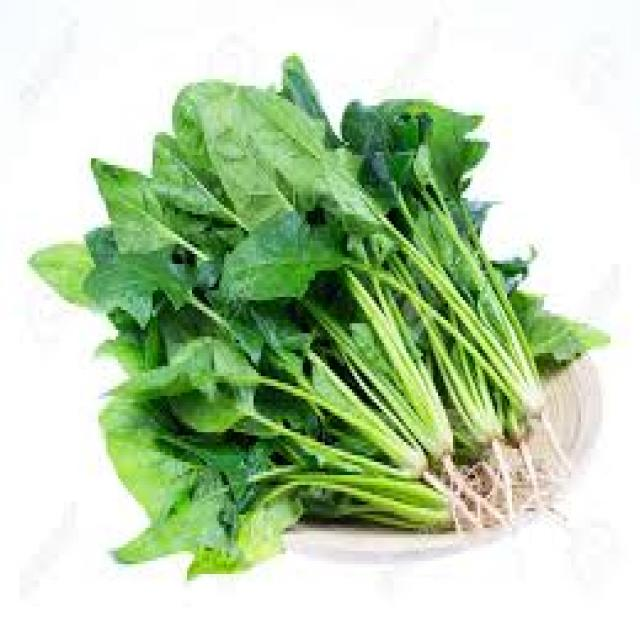spinach: (33, 55, 606, 573)
